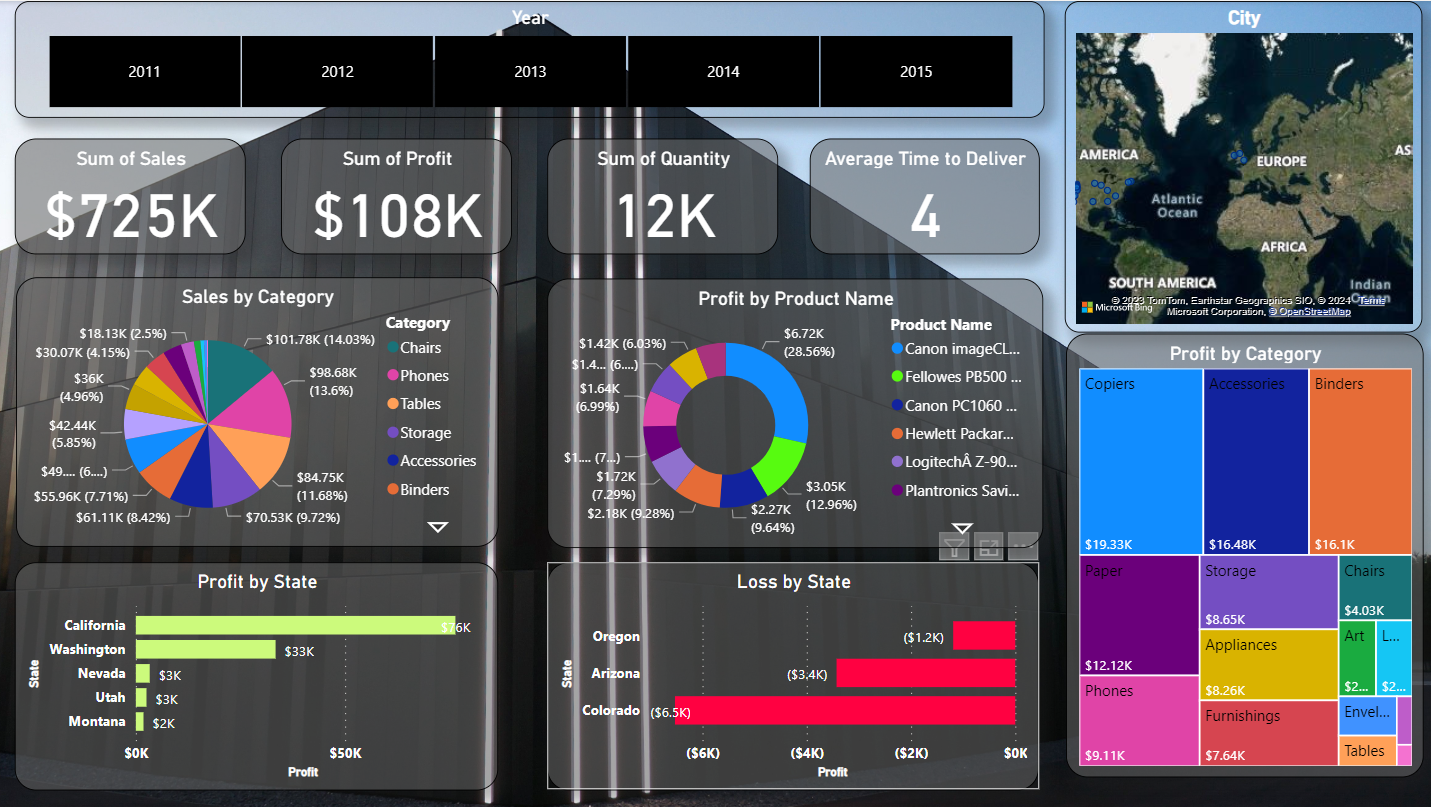

Layout of this report page (visuals, bound fields, positions):
{"tool":"powerbi","page":{"name":"Page 1","canvas":[1280,720],"ordinal":0},"visuals":[{"type":"map","fields":{"Category":["Walmart.City"]},"box":[951.6,0,318.4,295.5],"z":0},{"type":"slicer","title":"Year","fields":{"Values":["Walmart.Year"]},"box":[16.5,0,916.4,104.3],"z":1000},{"type":"barChart","fields":{"Category":["Walmart.State"],"Y":["Sum(Walmart.Profit)"]},"box":[16.5,499.4,430.8,203],"z":2000},{"type":"barChart","title":"Loss by State","fields":{"Category":["Walmart.State"],"Y":["Sum(Walmart.Profit)"]},"box":[491.1,499.4,437.6,203],"z":3000},{"type":"card","title":"Sum of Sales","fields":{"Values":["Sum(Walmart.Sales)"]},"box":[16.5,122.1,205.8,102.9],"z":4000},{"type":"card","title":"Sum of Profit","fields":{"Values":["Sum(Walmart.Profit)"]},"box":[253.8,122.1,205.8,102.9],"z":5000},{"type":"card","title":"Sum of Quantity","fields":{"Values":["Sum(Walmart.Quantity)"]},"box":[491.1,122.1,205.8,102.9],"z":6000},{"type":"treemap","fields":{"Group":["Walmart.Category"],"Values":["Sum(Walmart.Profit)"]},"box":[952.1,296.3,318.3,395.1],"z":7000},{"type":"pieChart","fields":{"Category":["Walmart.Category"],"Y":["Sum(Walmart.Sales)"]},"box":[17.8,245.6,429.4,240.1],"z":7001},{"type":"card","title":"Average Time to Deliver","fields":{"Values":["Avg(Walmart.Delivery Time)"]},"box":[724.4,122.1,204.4,102.9],"z":7002},{"type":"donutChart","fields":{"Category":["Walmart.Product Name"],"Y":["Sum(Walmart.Profit)"]},"box":[491.1,246.9,441.8,240.1],"z":7003}]}

Visuals, with their boxes in screenshot pixels (x1, y1, x2, y2), scaled from the page's 1280x720 canvas onto the 1431x807 screenshot:
map - Walmart.City: 1064:0:1420:331
"Year" slicer: 18:0:1043:117
barChart - Walmart.State x Sum(Walmart.Profit): 18:560:500:787
"Loss by State" barChart: 549:560:1038:787
"Sum of Sales" card: 18:137:249:252
"Sum of Profit" card: 284:137:514:252
"Sum of Quantity" card: 549:137:779:252
treemap - Walmart.Category x Sum(Walmart.Profit): 1064:332:1420:775
pieChart - Walmart.Category x Sum(Walmart.Sales): 20:275:500:544
"Average Time to Deliver" card: 810:137:1038:252
donutChart - Walmart.Product Name x Sum(Walmart.Profit): 549:277:1043:546
